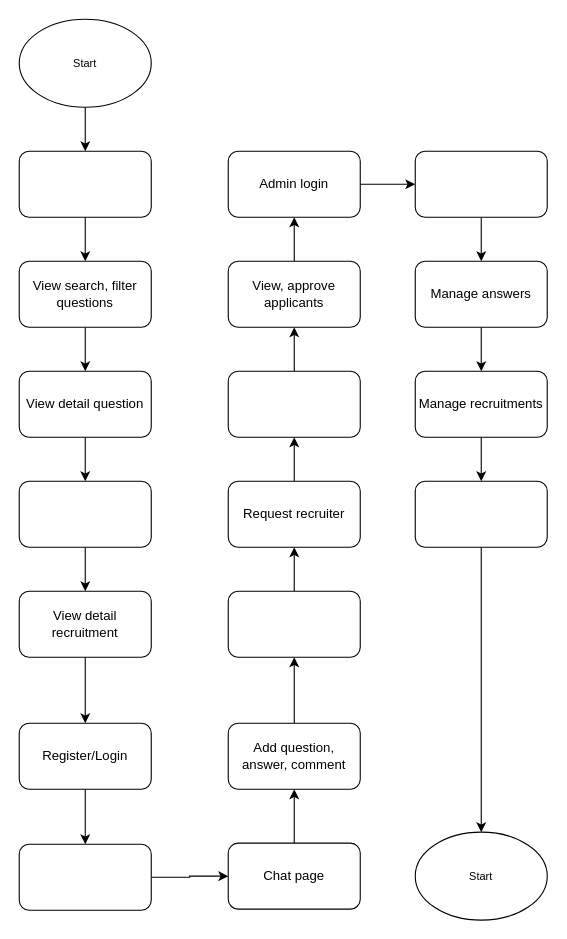
This 567x939 diagram has some shape labels left out. The shapes that lost their labels are listed below. From the top down, each one's box as (x1, y1, x2, y2) in pixels, then its label:
(18, 150, 151, 217): Chat popup
(414, 150, 547, 217): Manage questions
(227, 370, 360, 437): Post recruitment
(18, 480, 151, 547): View search, filter recruitments
(414, 480, 547, 547): Manage meta data
(227, 590, 360, 657): Apply recruitment
(18, 843, 151, 910): Update profile
